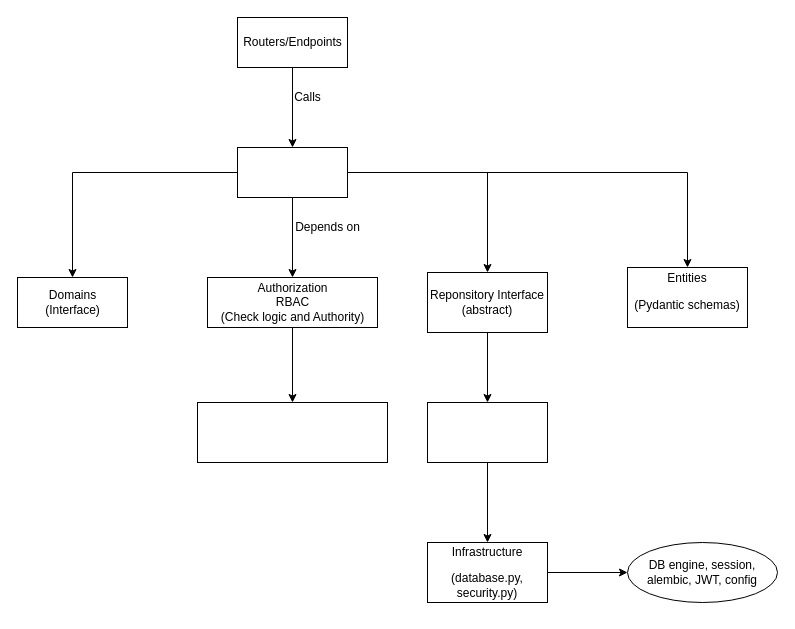
The diagram is 795 pixels wide and 629 high, and some of its shapes have lost their labels. The shapes that lost their labels are listed below. From the top down, each one's centre as x and y in pixels, then its label:
(x=292, y=172): Application Services
(x=292, y=432): RBAC models/Role/Resource/perm
(x=487, y=432): SQLAlchemy Models (DB tables)
